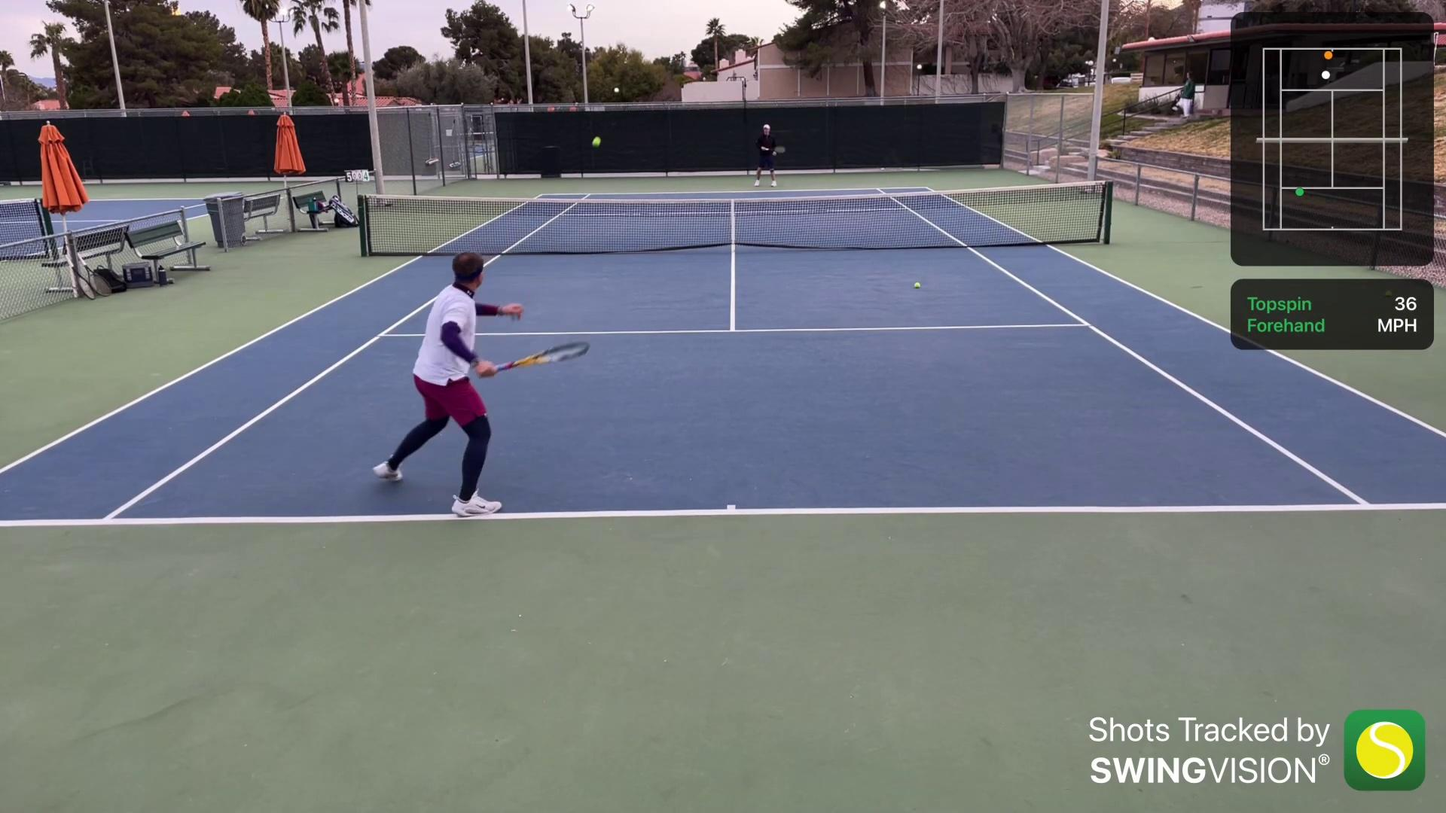ball: (591, 136, 602, 147), (911, 280, 923, 290)
